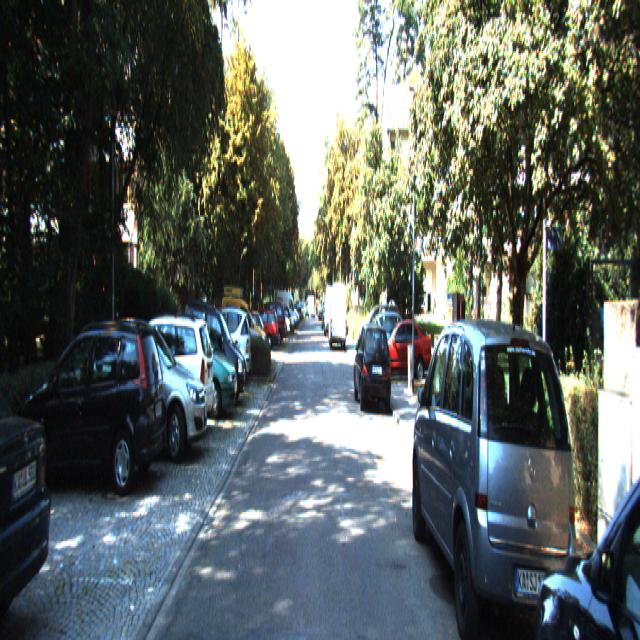Car: (410, 312, 583, 638), (13, 314, 165, 493), (72, 313, 209, 465), (0, 334, 59, 638), (103, 310, 214, 438), (160, 311, 238, 419), (180, 301, 245, 409), (198, 306, 252, 389), (220, 282, 267, 364), (353, 320, 393, 412), (376, 314, 433, 375), (252, 298, 286, 346), (240, 309, 278, 351), (329, 281, 347, 344), (324, 284, 338, 336)
